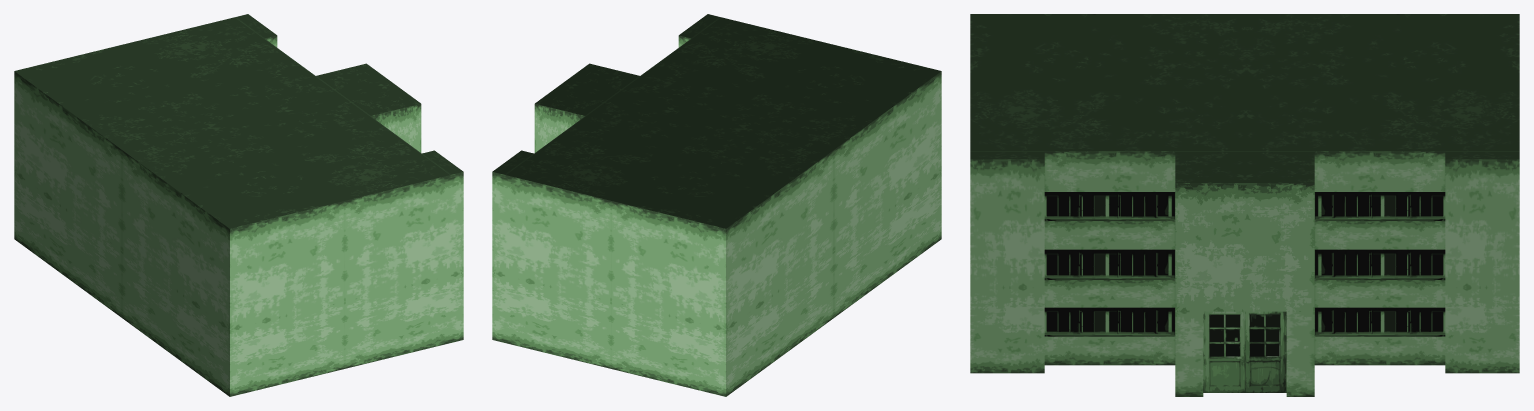
File: Building2.obj
3 views of the same model, side by side, from view 1: azimuth 30°, elevation 25°; view 2: azimuth 150°, elevation 25°; view 3: azimuth 270°, elevation 25° (orthographic). The views are drawn at different scales.
Visible parts, largest first — view 1: polySurface132; view 2: polySurface132; view 3: polySurface132.
Part boxes in pixels (bbox=[...]): polySurface132: bbox=[14, 14, 463, 396]; polySurface132: bbox=[492, 14, 941, 396]; polySurface132: bbox=[970, 14, 1519, 396].
Size of the model in its own units: 1310 by 774 by 1799.
